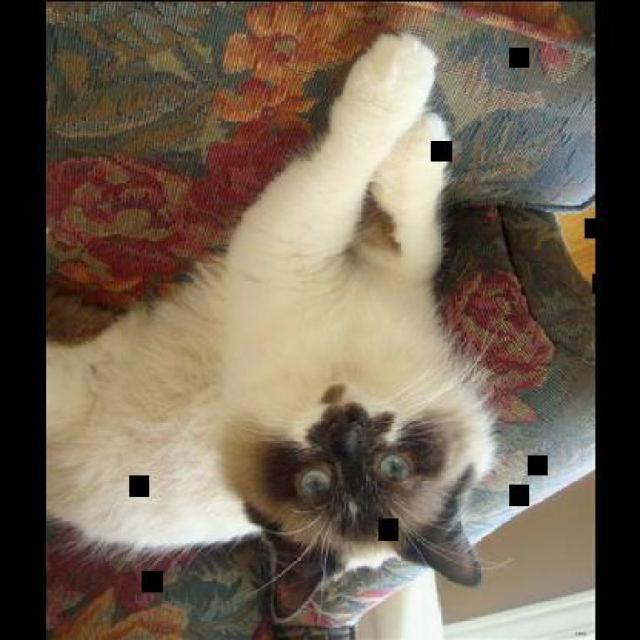unauthorized: (45, 29, 506, 623)
